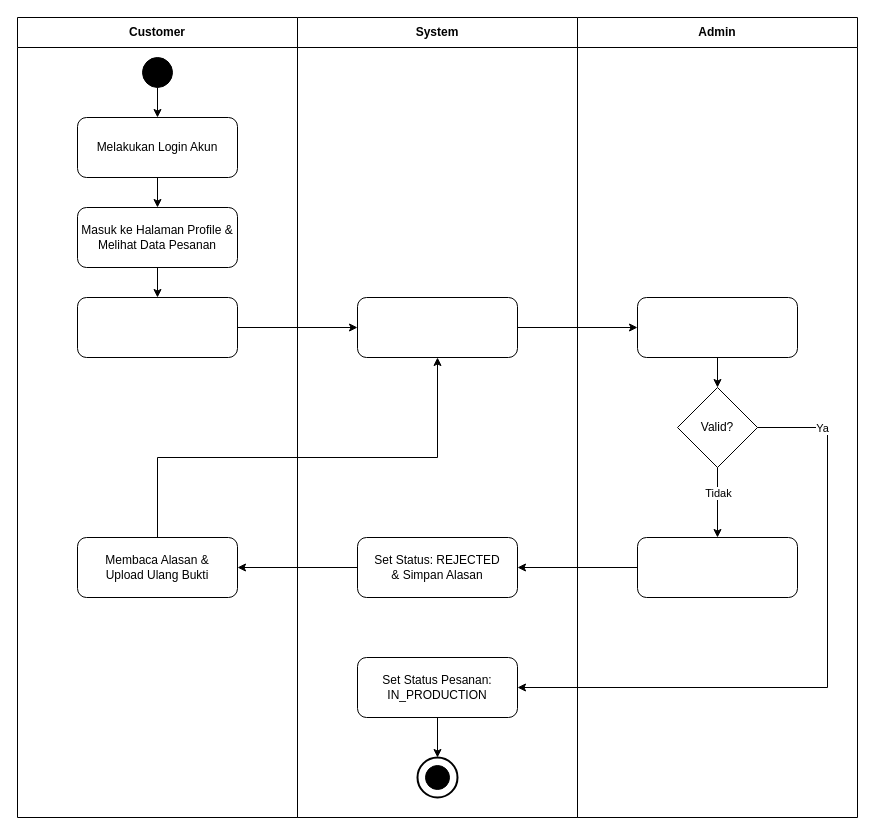
Some shapes in this 875 by 835 pixel diagram are drawn without their labels. The centre of each missing label's shape, as x and y in pixels:
"Input Alasan Penolakan" goes at (x=717, y=567).
"Periksa & Validasi Bukti Transfer" goes at (x=717, y=327).
"Pilih Pesanan & Upload Bukti Pembayaran DP" goes at (x=157, y=327).
"Simpan Bukti pembayaran DP" goes at (x=437, y=327).
